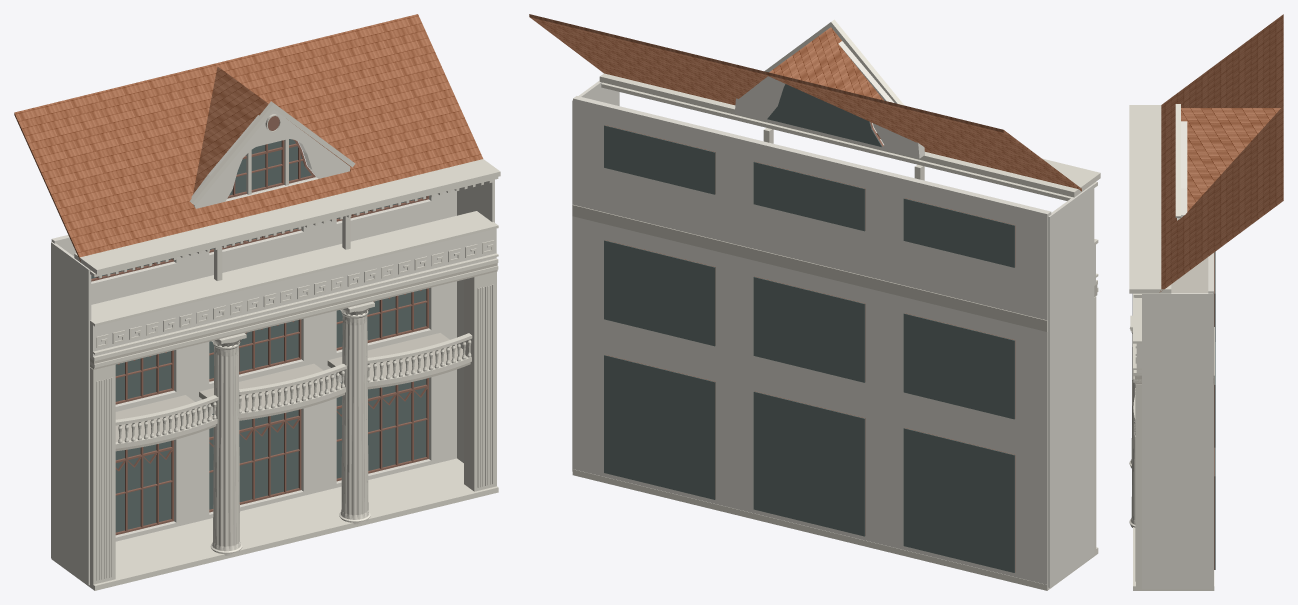
Rendered from jingan-kangding-garden-central-portico-raw.glb.
3 views of the same model, side by side, from view 1: azimuth 30°, elevation 25°; view 2: azimuth 150°, elevation 25°; view 3: azimuth 270°, elevation 25° (orthographic). The views are drawn at different scales.
Parts seen in each view (by area): view 1: 康定花园中楼南向三开间柱廊; view 2: 康定花园中楼南向三开间柱廊; view 3: 康定花园中楼南向三开间柱廊.
Boxes of the visible parts, left/top/right/bottom form: 康定花园中楼南向三开间柱廊: left=14, top=14, right=500, bottom=590; 康定花园中楼南向三开间柱廊: left=529, top=14, right=1100, bottom=590; 康定花园中楼南向三开间柱廊: left=1129, top=14, right=1283, bottom=590.
Bounding box in the file's own units: 16.95 × 16.81 × 5.97.
Materials: 6 (1 with a texture image).
